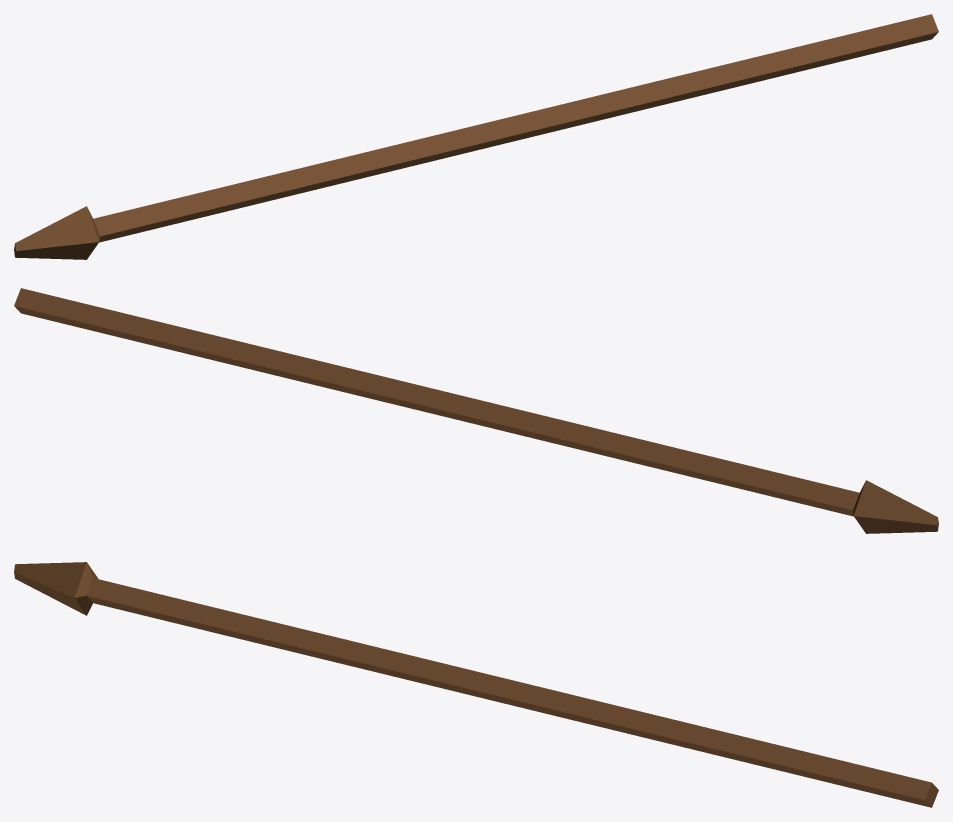
File: simplearrow.glb
3 renders of one model, top to bottom at view 1: azimuth 30°, elevation 25°; view 2: azimuth 150°, elevation 25°; view 3: azimuth 330°, elevation 25°, orthographic.
Parts seen in each view (by area): view 1: pCube1; view 2: pCube1; view 3: pCube1.
Part boxes in pixels (bbox=[...]): pCube1: bbox=[14, 14, 938, 259]; pCube1: bbox=[14, 288, 938, 533]; pCube1: bbox=[14, 562, 938, 807].
Size of the model in its own units: 0.1804 by 0.0101 by 0.00849.
